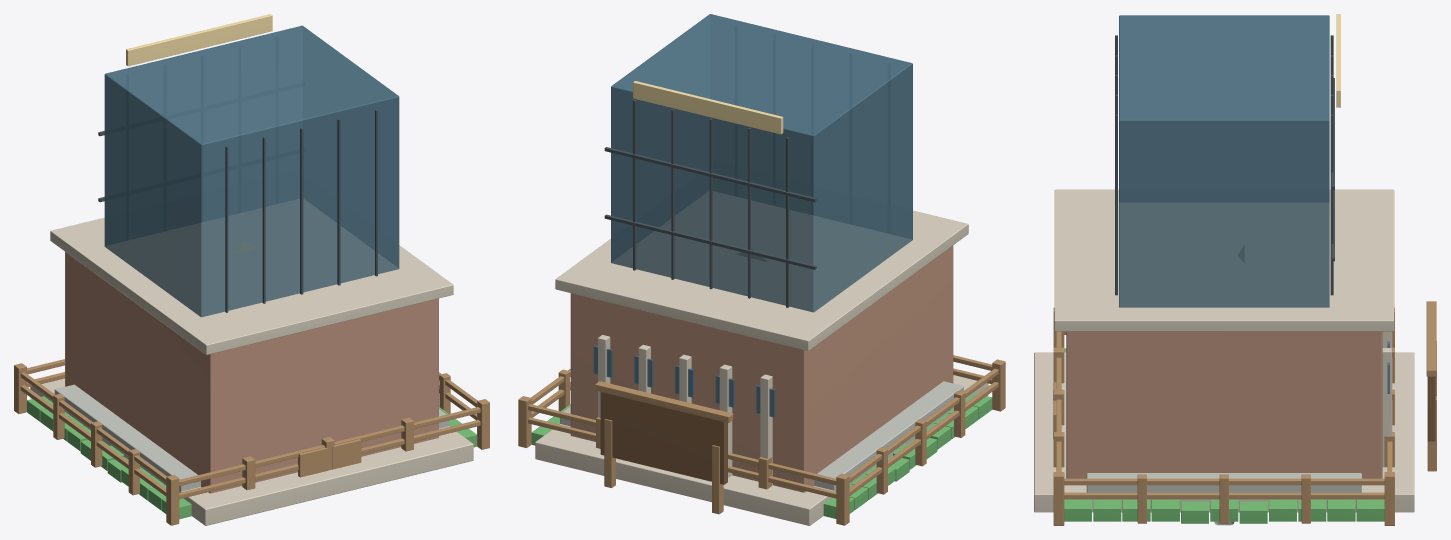
The model's file is play-environment.glb.
3 views of the same model, side by side, from view 1: azimuth 30°, elevation 25°; view 2: azimuth 150°, elevation 25°; view 3: azimuth 270°, elevation 25° (orthographic). The views are drawn at different scales.
Parts seen in each view (by area): view 1: Office_Tower, Campus_Main, Campus_RoofTrim, Campus_Base, Office_Podium, Office_RoofSign, Farm_FenceRail_Long_High.001, Farm_FenceRail_Long_Low.001, Farm_FenceRail_Side_High, Farm_FenceRail_Side_Low, Farm_GateLeft, Farm_GateRight (+7 smaller); view 2: Office_Tower, Campus_Main, Campus_RoofTrim, Campus_Base, Farm_CounterBoardBack, Office_Podium, Office_RoofSign, Farm_CounterBoardTop, Farm_FenceRail_Long_High, Farm_FenceRail_Long_Low, Farm_FenceRail_Side_High, Farm_FenceRail_Side_Low (+14 smaller); view 3: Office_Tower, Campus_Main, Campus_RoofTrim, Campus_Base, Office_Podium, Farm_FenceRail_Side_High.001, Farm_FenceRail_Side_Low.001, Campus_Column.004, Farm_CounterBoardTop, Farm_FenceRail_Long_High.001, Farm_Block_6_-1, Farm_Block_6_-5 (+15 smaller).
Part boxes in pixels (x1,y1,x2,y2): Office_Tower: (104,25,399,317); Campus_Main: (65,252,438,493); Campus_RoofTrim: (50,199,453,354); Campus_Base: (30,378,473,525); Office_Podium: (54,384,449,491); Office_RoofSign: (126,14,272,66); Farm_FenceRail_Long_High.001: (179,407,480,486); Farm_FenceRail_Long_Low.001: (179,420,480,498); Farm_FenceRail_Side_High: (20,372,166,483); Farm_FenceRail_Side_Low: (20,385,166,496); Farm_GateLeft: (298,447,328,477); Farm_GateRight: (332,439,361,469); Office_Tower: (611,14,912,312); Campus_Main: (570,245,953,492); Campus_RoofTrim: (555,191,968,350); Campus_Base: (535,375,988,525); Farm_CounterBoardBack: (600,392,727,484); Office_Podium: (560,381,963,491); Office_RoofSign: (633,81,783,134); Farm_CounterBoardTop: (595,381,733,422); Farm_FenceRail_Long_High: (528,404,836,484); Farm_FenceRail_Long_Low: (528,417,836,498); Farm_FenceRail_Side_High: (849,368,998,482); Farm_FenceRail_Side_Low: (849,382,998,495); Office_Tower: (1119,15,1329,307); Campus_Main: (1066,331,1382,478); Campus_RoofTrim: (1054,189,1394,331); Campus_Base: (1034,352,1414,512); Office_Podium: (1086,473,1361,512); Farm_FenceRail_Side_High.001: (1064,478,1384,485); Farm_FenceRail_Side_Low.001: (1064,492,1384,499); Campus_Column.004: (1382,348,1391,467); Farm_CounterBoardTop: (1426,301,1436,376); Farm_FenceRail_Long_High.001: (1056,331,1061,471); Farm_Block_6_-1: (1239,501,1267,523); Farm_Block_6_-5: (1356,499,1384,521).
Bounding box in the file's own units: 13.66 × 17.53 × 13.76.
